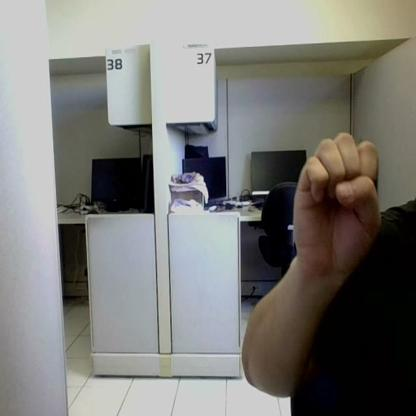S: (293, 133, 382, 271)
